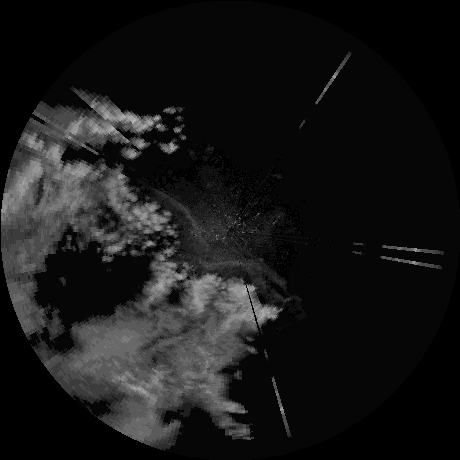frontgust: (191, 254, 289, 300), (152, 183, 209, 251)
